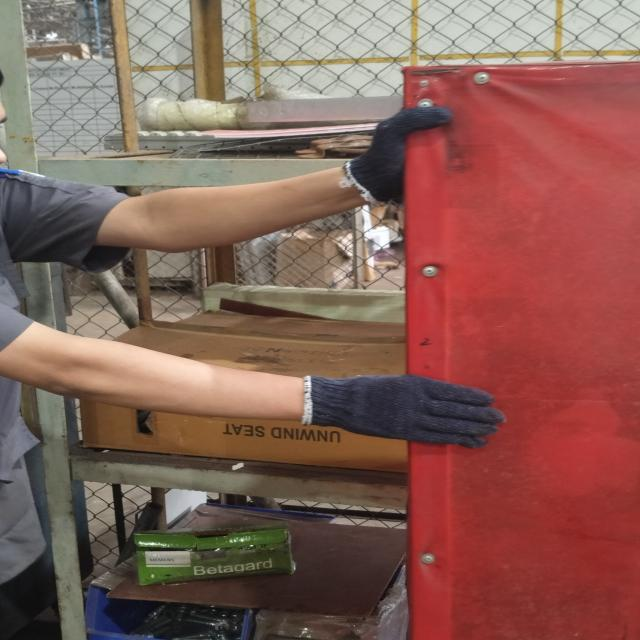Gloves-Detection: (294, 370, 543, 464), (354, 115, 475, 215)
